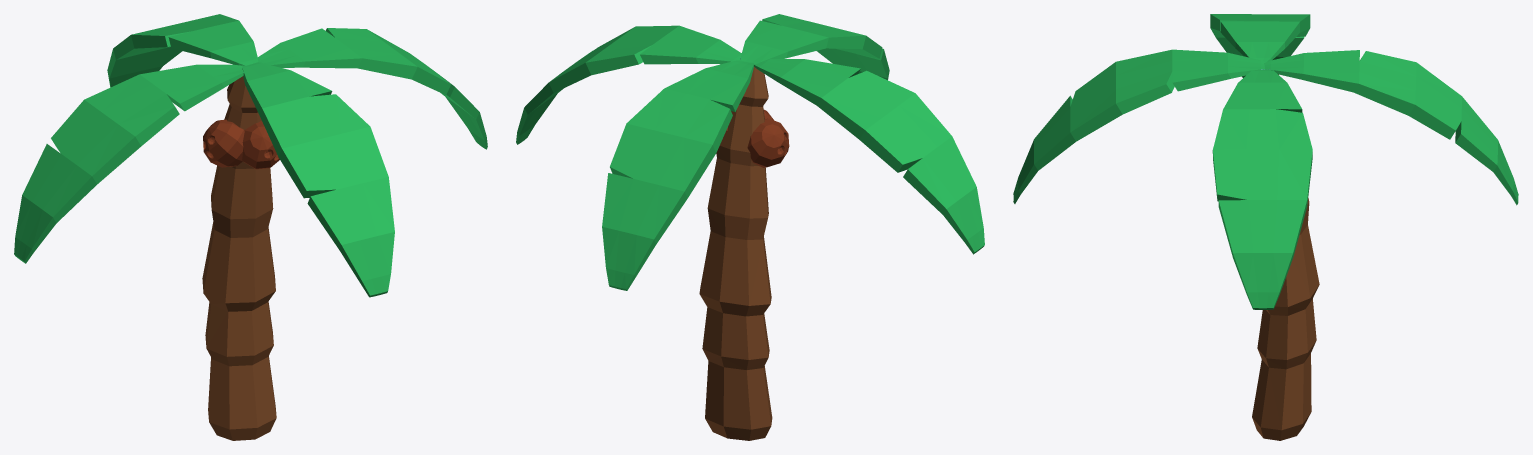
Rendered from Palm2.fbx.
The picture shows the model from 3 angles, left to right: view 1: azimuth 30°, elevation 25°; view 2: azimuth 150°, elevation 25°; view 3: azimuth 270°, elevation 25°; orthographic projection. The views are drawn at different scales.
Parts seen in each view (by area): view 1: kokiusz2; view 2: kokiusz2; view 3: kokiusz2.
Part boxes in pixels (x1,y1,x2,y2): kokiusz2: [14, 14, 487, 440]; kokiusz2: [516, 14, 984, 440]; kokiusz2: [1013, 14, 1518, 440].
Size of the model in its own units: 6.5 by 5.01 by 6.25.
Materials: 1 (1 with a texture image).
